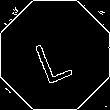L_N: (31, 26, 79, 84)
